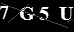5: (38, 6, 49, 22)
7: (1, 5, 9, 20)
G: (18, 6, 35, 21)
U: (58, 6, 74, 21)
